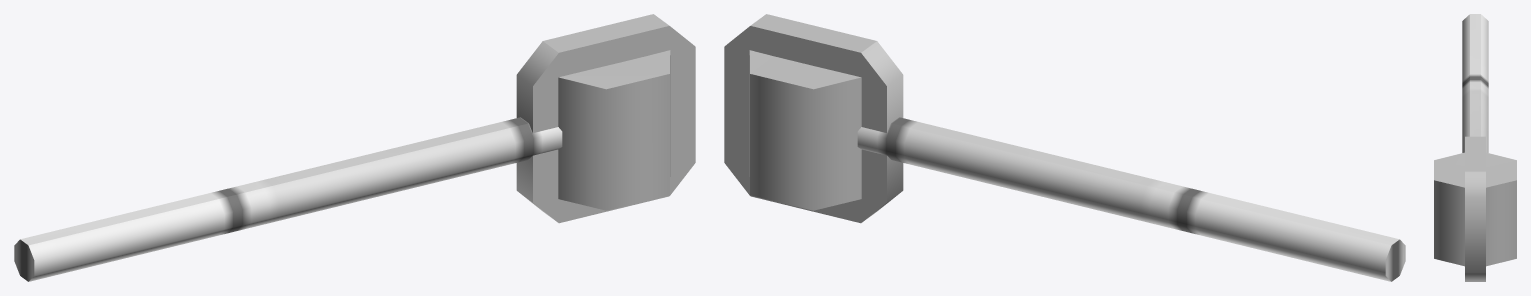
The model's file is mace.obj.
3 renders of one model, left to right at view 1: azimuth 30°, elevation 25°; view 2: azimuth 150°, elevation 25°; view 3: azimuth 270°, elevation 25°, orthographic. The views are drawn at different scales.
Parts seen in each view (by area): view 1: handle, mace_head, head_flange; view 2: handle, mace_head, head_flange; view 3: mace_head, handle, head_flange.
Boxes of the visible parts, left/top/right/bottom form: handle: left=14, top=117, right=562, bottom=281; mace_head: left=558, top=50, right=670, bottom=210; head_flange: left=516, top=14, right=695, bottom=223; handle: left=857, top=117, right=1405, bottom=281; mace_head: left=749, top=50, right=861, bottom=210; head_flange: left=724, top=14, right=903, bottom=223; mace_head: left=1434, top=152, right=1516, bottom=266; handle: left=1462, top=14, right=1488, bottom=152; head_flange: left=1465, top=136, right=1485, bottom=281.
Bounding box in the file's own units: 0.57 × 0.14 × 0.0952.
